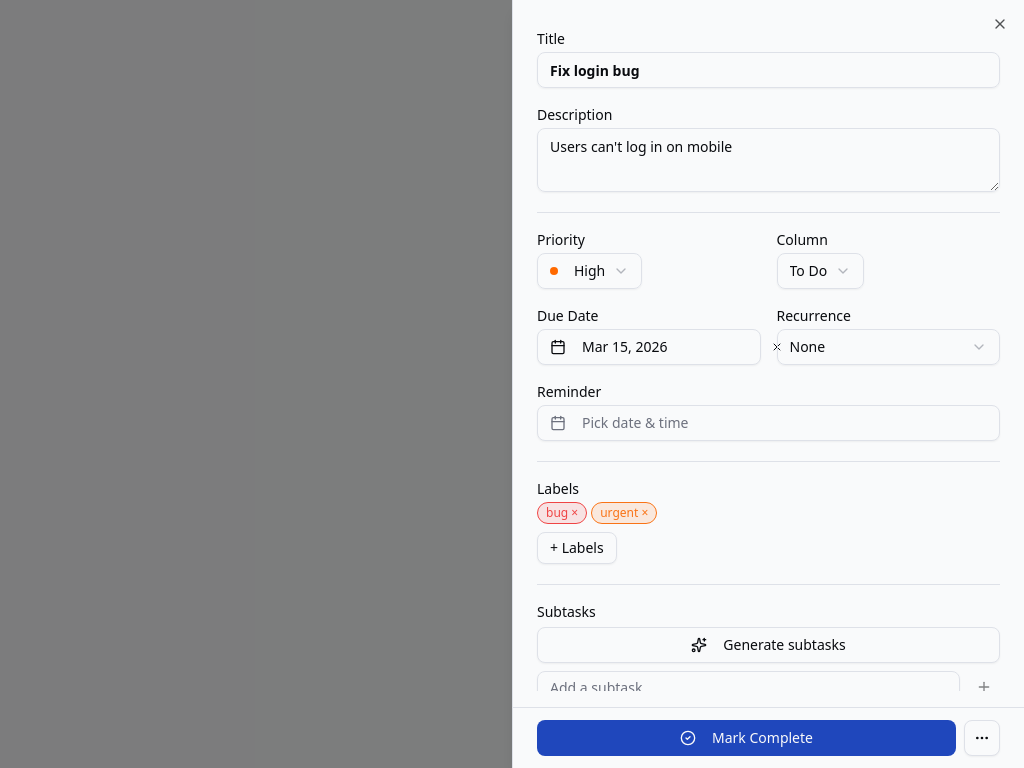
Test: TaskSheet › AI subtask generation › opens generate subtasks dialog when button is clicked
Click the button "Generate subtasks" at (768, 645), box [537,627,1000,663]
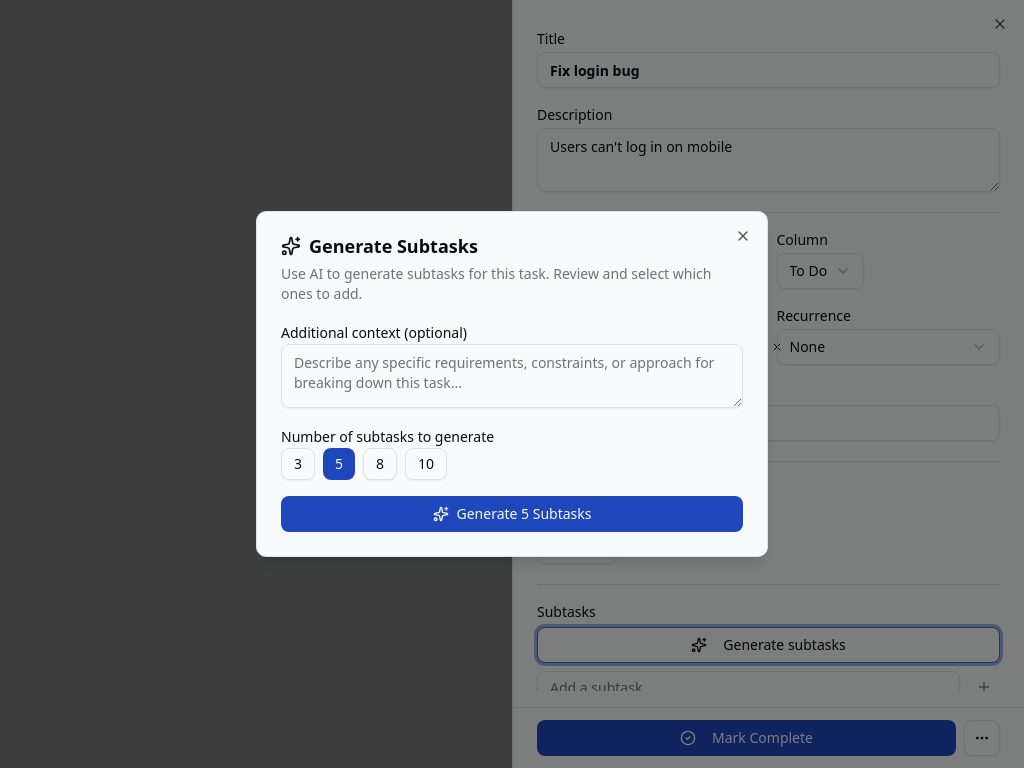
Result: the heading "Generate Subtasks" is shown at [281,234,478,258]
Result: the text "Use AI to generate subtasks" is shown at [281,264,712,303]
